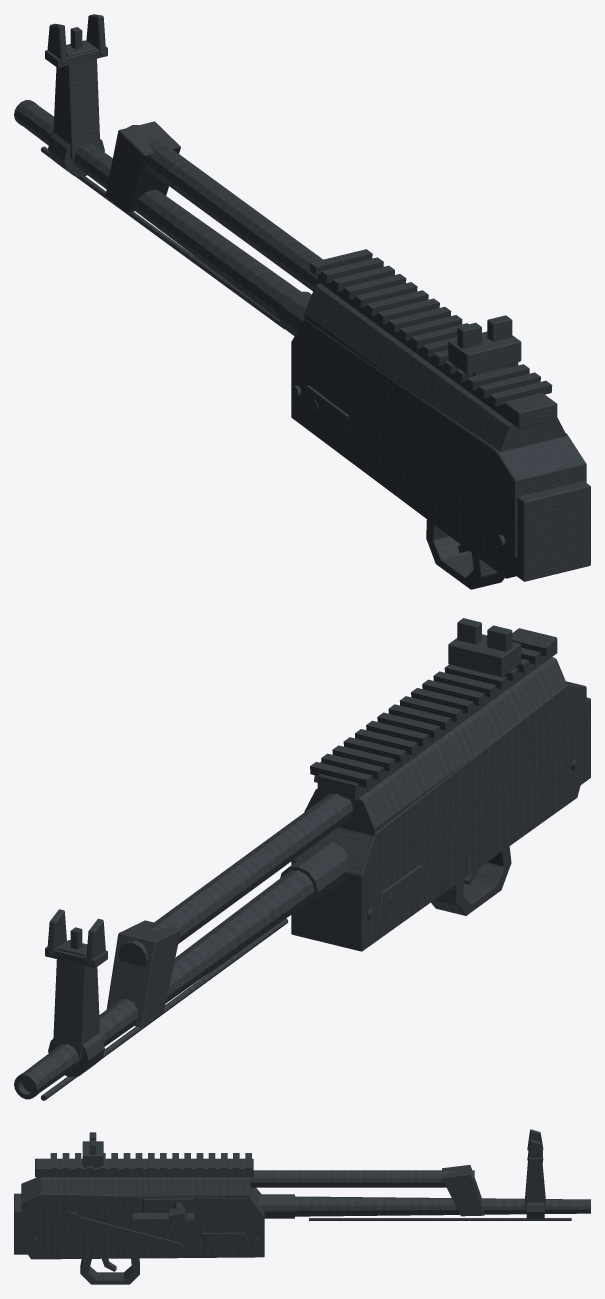
Rendered from weapon_ak12.glb.
3 views of the same model, one above another, from view 1: azimuth 30°, elevation 25°; view 2: azimuth 150°, elevation 25°; view 3: azimuth 270°, elevation 25° (orthographic). The views are drawn at different scales.
Visible parts, largest first — view 1: body_LOD0; view 2: body_LOD0; view 3: body_LOD0, action_LOD0.
Part boxes in pixels (left/top/right/bottom): body_LOD0: left=14, top=14, right=590, bottom=589; body_LOD0: left=14, top=618, right=590, bottom=1100; body_LOD0: left=14, top=1129, right=590, bottom=1284; action_LOD0: left=143, top=1198, right=193, bottom=1221.
Size of what is drawn, in the model's own units: 0.1398 by 0.2907 by 1.04.
Materials: 1 (1 with a texture image).
